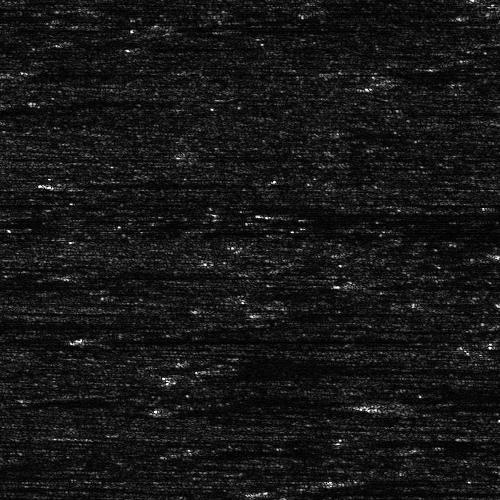object: (225, 484, 318, 497), (2, 66, 75, 77), (51, 334, 124, 343), (28, 180, 91, 187), (250, 210, 303, 217), (61, 496, 134, 500), (202, 365, 243, 372)
shadow: (272, 484, 447, 497), (88, 334, 337, 343), (38, 66, 204, 77), (222, 365, 481, 372), (60, 180, 307, 187), (97, 496, 436, 500), (276, 210, 448, 217), (0, 321, 101, 328), (0, 200, 32, 205)
